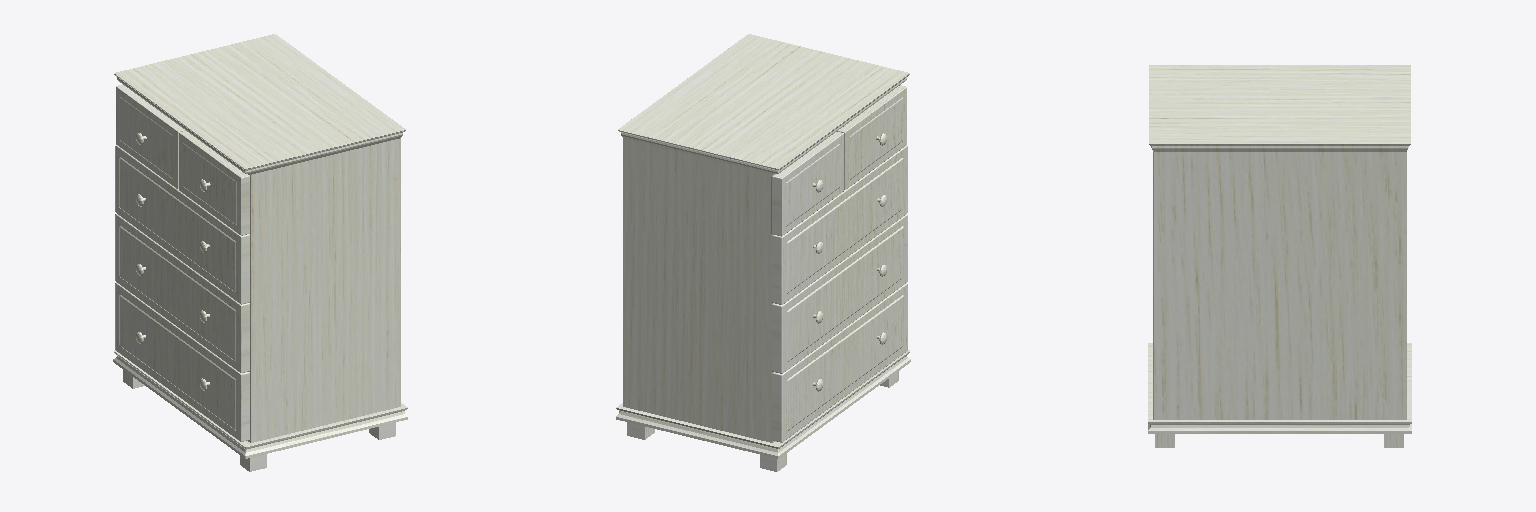
3 renders of one model, left to right at view 1: azimuth 30°, elevation 25°; view 2: azimuth 150°, elevation 25°; view 3: azimuth 270°, elevation 25°, orthographic.
Parts seen in each view (by area): view 1: drawer_body; view 2: drawer_body; view 3: drawer_body.
Boxes of the visible parts, x1,y1,x2,y2 form: drawer_body: [113, 34, 407, 471]; drawer_body: [616, 34, 910, 471]; drawer_body: [1148, 65, 1411, 447].
Bounding box in the file's own units: 15.43 × 26.3 × 20.55.
1 materials, 1 textured.